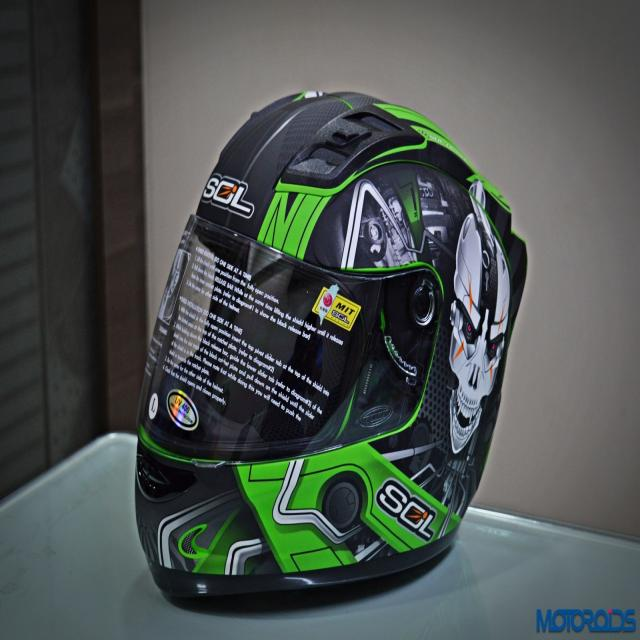Helmet: (135, 92, 526, 596)
